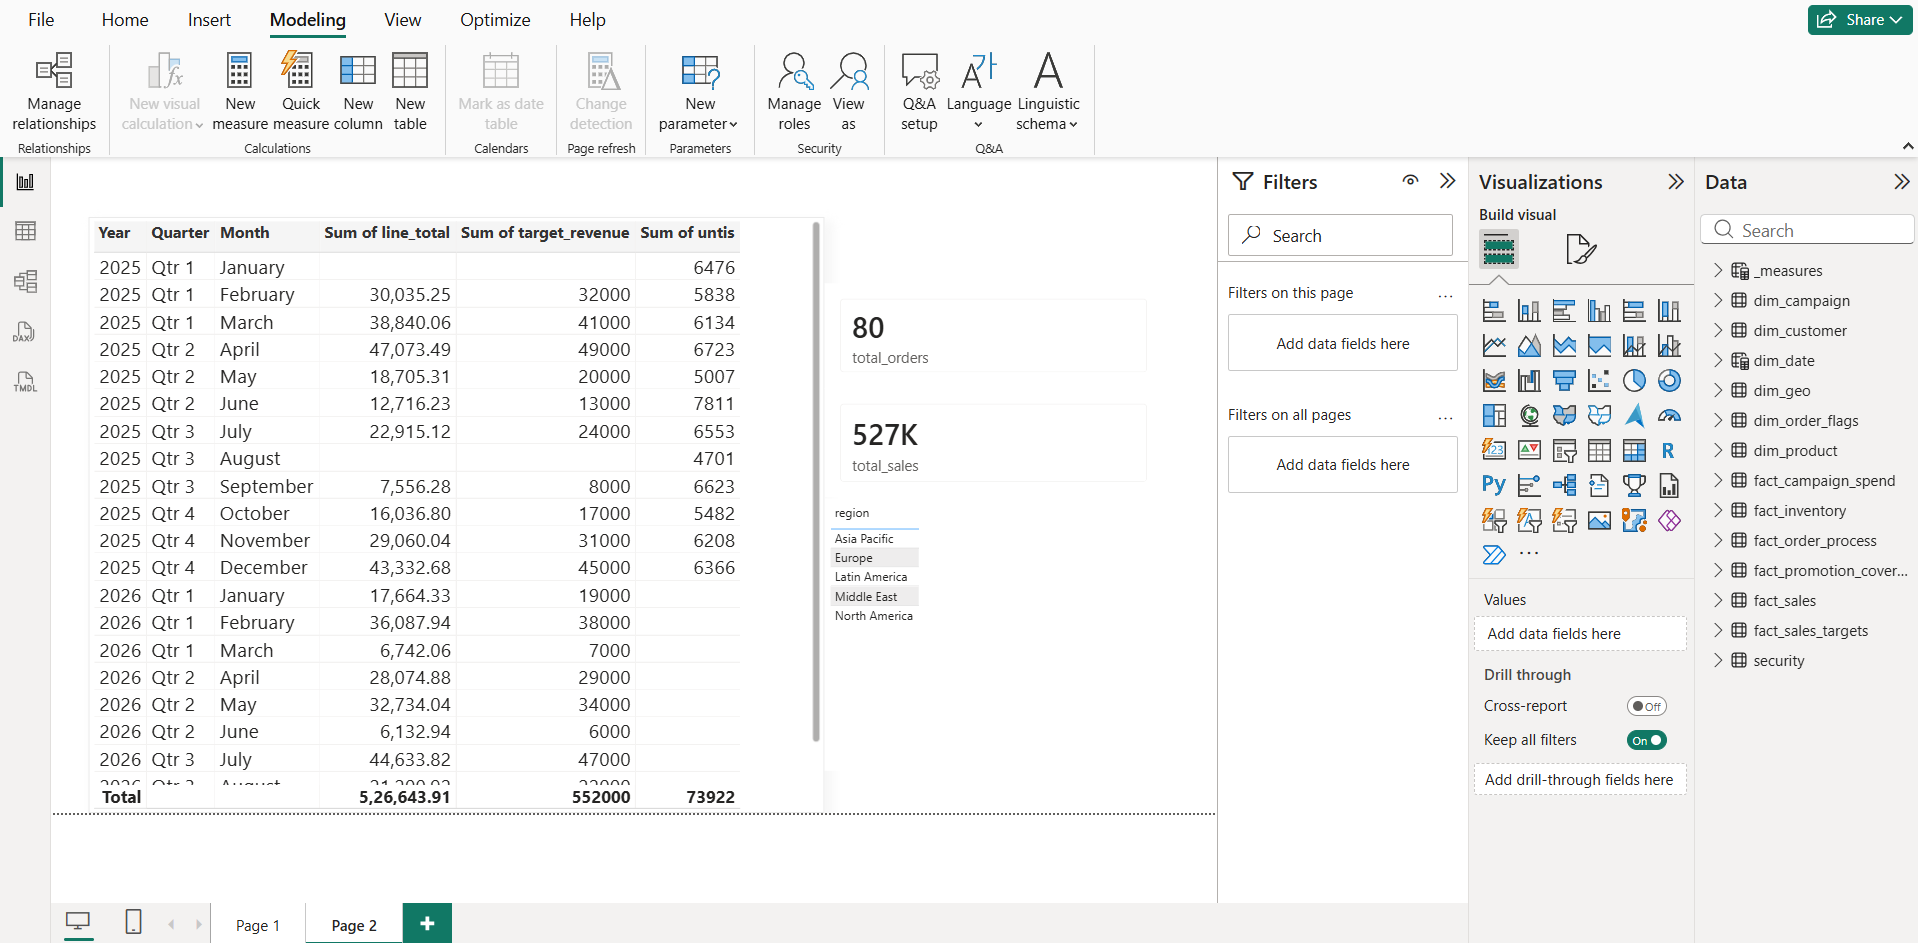

What the dashboard file says about the page in this screenshot:
{"tool":"powerbi","page":{"name":"Page 2","canvas":[1280,720],"ordinal":1},"visuals":[{"type":"tableEx","fields":{"Values":["dim_date.Date.Variation.Date Hierarchy.Year","dim_date.Date.Variation.Date Hierarchy.Quarter","dim_date.Date.Variation.Date Hierarchy.Month","Sum(fact_sales.line_total)","Sum(fact_sales_targets.target_revenue)","Sum(fact_inventory.untis)"]},"box":[31.6,19.2,808.2,654.5],"z":0},{"type":"cardVisual","fields":{"Data":["_measures.total_sales"]},"box":[850,254.3,371.4,120],"z":1000},{"type":"cardVisual","fields":{"Data":["_measures.total_orders"]},"box":[849.9,138,371.6,115.9],"z":2000},{"type":"tableEx","fields":{"Values":["dim_customer.region"]},"box":[850,374.3,371.4,299.5],"z":3000}]}

Visuals, with their boxes on the page's 1280x720 design canvas (x1, y1, x2, y2). These are canvas units, not pixel positions in the 1918x943 screenshot, which may show the page scaled, cropped or inside an application window:
tableEx - dim_date.Date.Variation.Date Hierarchy.Year x dim_date.Date.Variation.Date Hierarchy.Quarter: BBox(32, 19, 840, 674)
cardVisual - _measures.total_sales: BBox(850, 254, 1221, 374)
cardVisual - _measures.total_orders: BBox(850, 138, 1222, 254)
tableEx - dim_customer.region: BBox(850, 374, 1221, 674)
